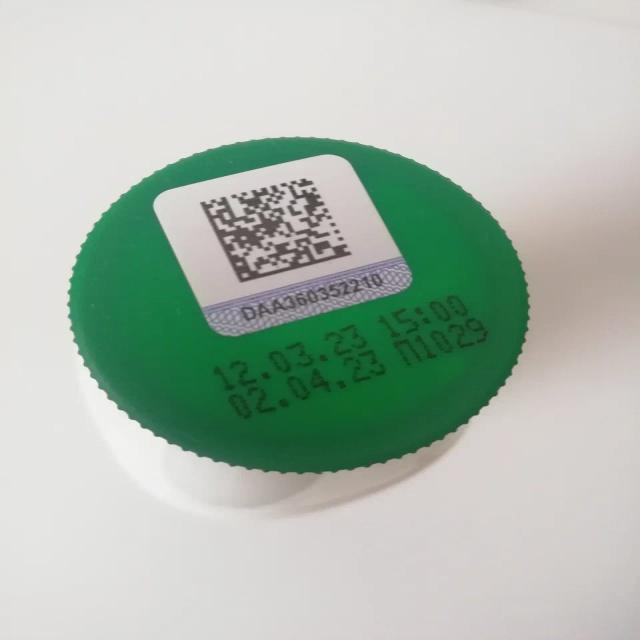datamatrix: (197, 175, 356, 284)
